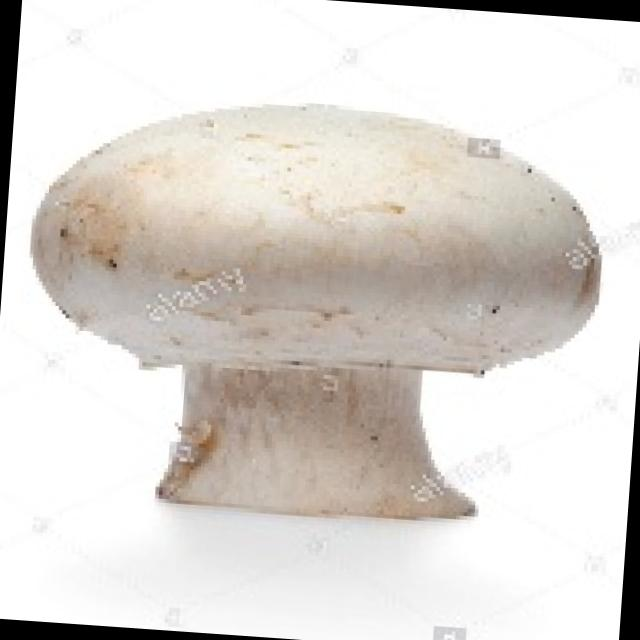mushroom: (1, 68, 626, 544)
